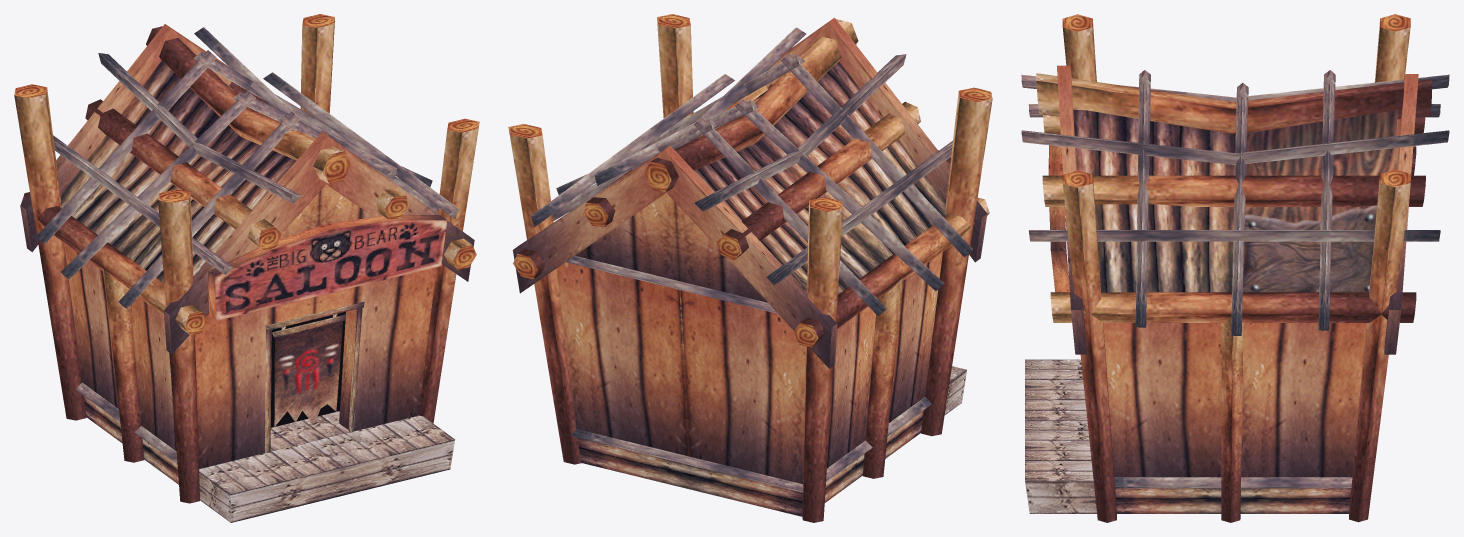
3 renders of one model, left to right at view 1: azimuth 30°, elevation 25°; view 2: azimuth 150°, elevation 25°; view 3: azimuth 270°, elevation 25°, orthographic. The views are drawn at different scales.
Parts seen in each view (by area): view 1: main_frame, wood_beam_06, slats, sign, roof_frames, leather_hide, door_frame; view 2: main_frame, wood_beam_06, slats, roof_frames; view 3: main_frame, wood_beam_06, slats, roof_frames, sign.
Boxes of the visible parts, x1,y1,x2,y2 form: main_frame: [60, 60, 454, 522]; wood_beam_06: [14, 14, 479, 503]; slats: [36, 27, 458, 463]; sign: [208, 215, 447, 320]; roof_frames: [20, 24, 474, 354]; leather_hide: [274, 321, 342, 426]; door_frame: [265, 301, 364, 453]; main_frame: [556, 61, 966, 516]; wood_beam_06: [508, 14, 992, 522]; slats: [531, 27, 973, 492]; roof_frames: [513, 17, 987, 368]; main_frame: [1025, 109, 1398, 513]; wood_beam_06: [1036, 14, 1432, 522]; slats: [1021, 70, 1449, 488]; roof_frames: [1057, 65, 1418, 354]; sign: [1048, 145, 1069, 292].
Size of the model in its own units: 561 by 507 by 505.
9 materials, 9 textured.
